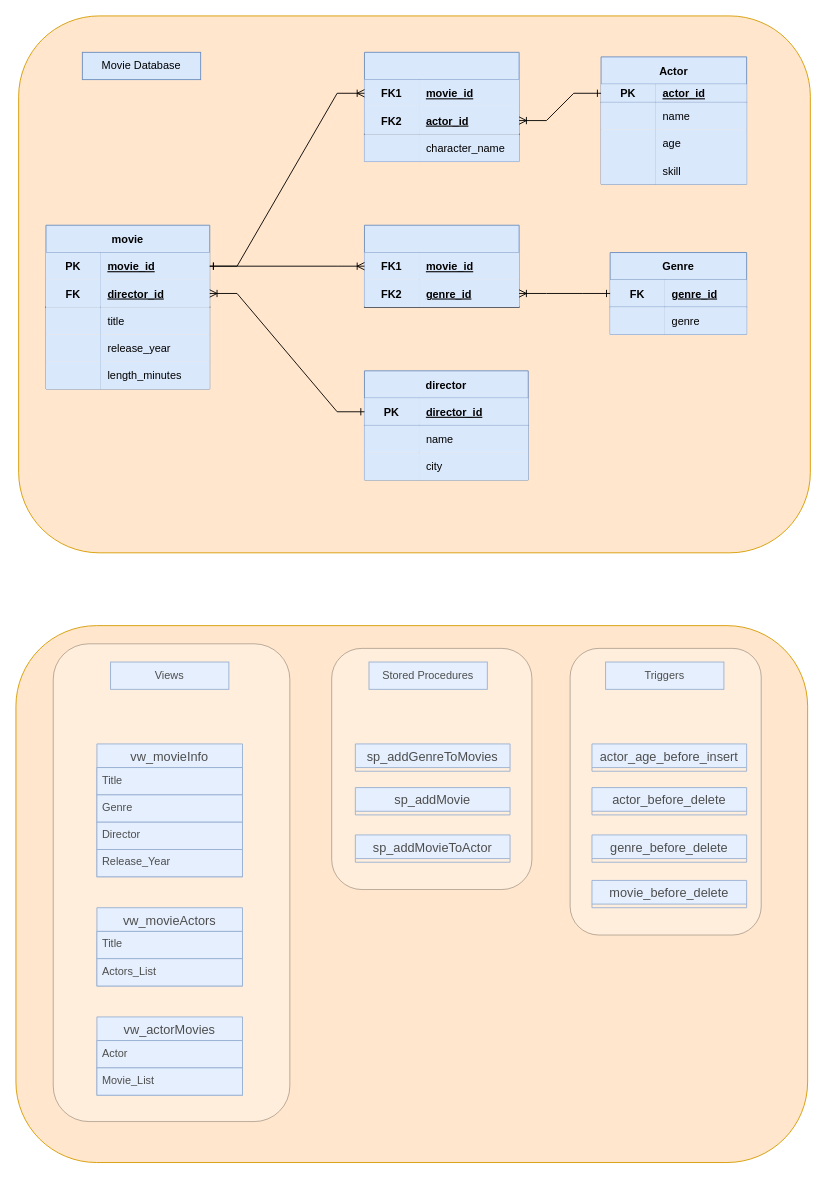
This 826x1178 diagram has some shape labels left out. The box of each missing label's shape, as (x1, y1, x2, y2) in pixels:
movie_actor: (364, 51, 519, 162)
movie_genre: (364, 224, 519, 307)
